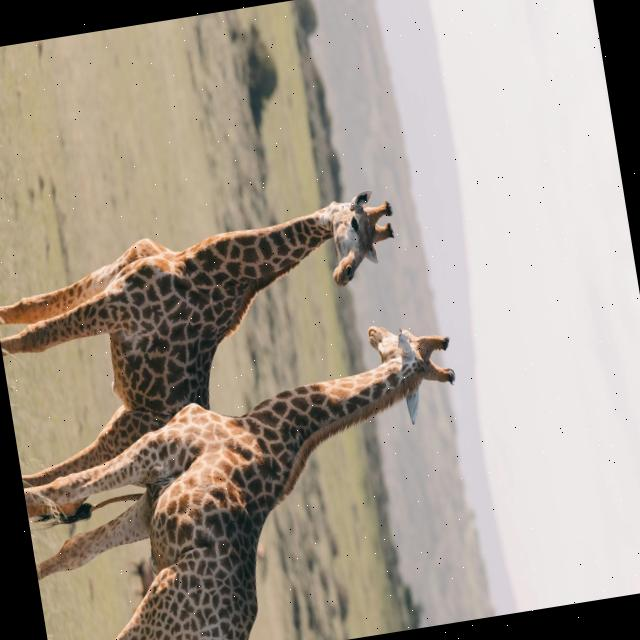Giraffe: (6, 315, 492, 640), (0, 184, 435, 525)
